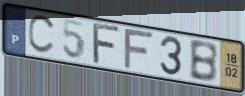3: (158, 35, 184, 78)
5: (61, 17, 87, 62)
B: (188, 39, 220, 85)
C: (27, 15, 58, 57)
F: (122, 28, 156, 71), (91, 22, 123, 66)
